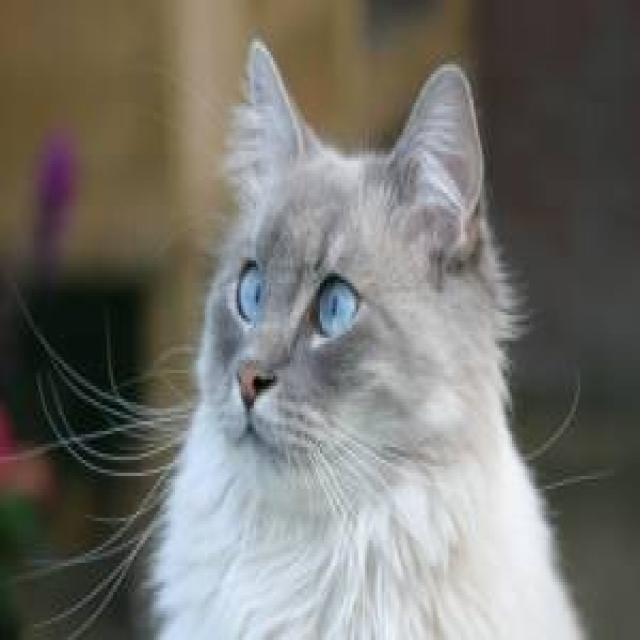Ragdoll: (195, 26, 511, 520)
